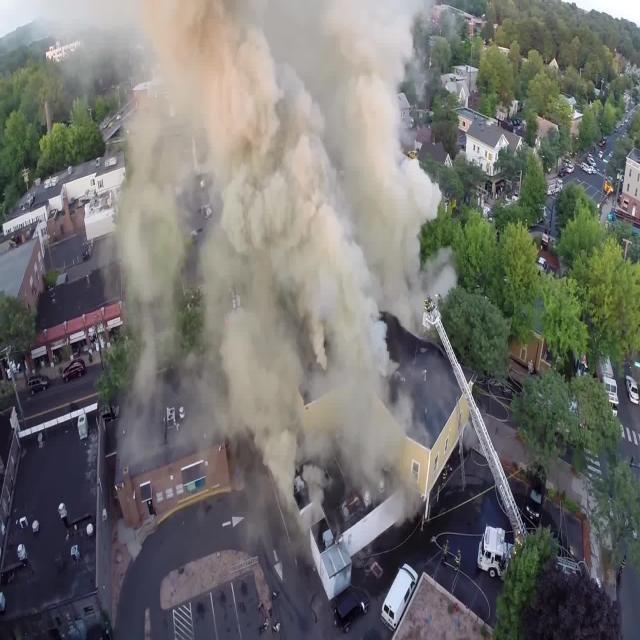smoke: (167, 21, 398, 416)
